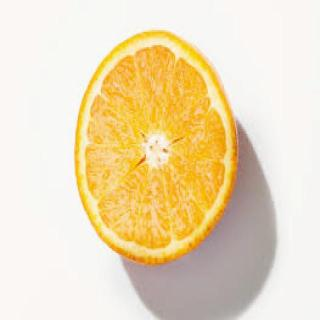orange: (68, 17, 250, 277)
